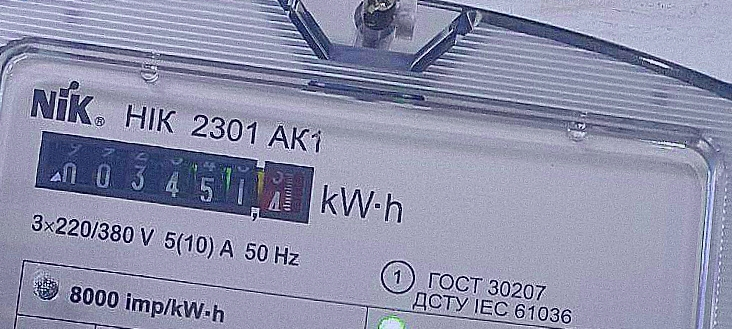0: (91, 160, 113, 189), (57, 157, 79, 185)
1: (230, 174, 249, 207)
3: (126, 160, 148, 193)
4: (160, 167, 182, 201), (262, 186, 284, 216)
5: (195, 172, 215, 205)
screen: (25, 124, 321, 232)
